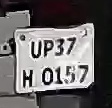0: (42, 68, 53, 86)
1: (54, 66, 64, 88)
3: (55, 38, 65, 58)
5: (64, 65, 79, 86)
7: (77, 63, 88, 85), (65, 35, 77, 55)
H: (22, 69, 35, 89)
P: (43, 37, 55, 58)
U: (28, 39, 44, 60)
